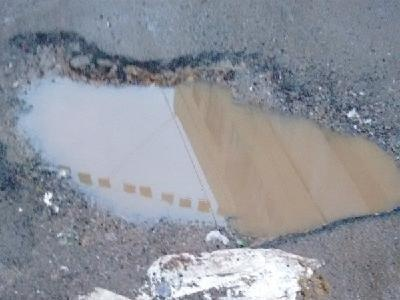pothole: (4, 26, 400, 251)
